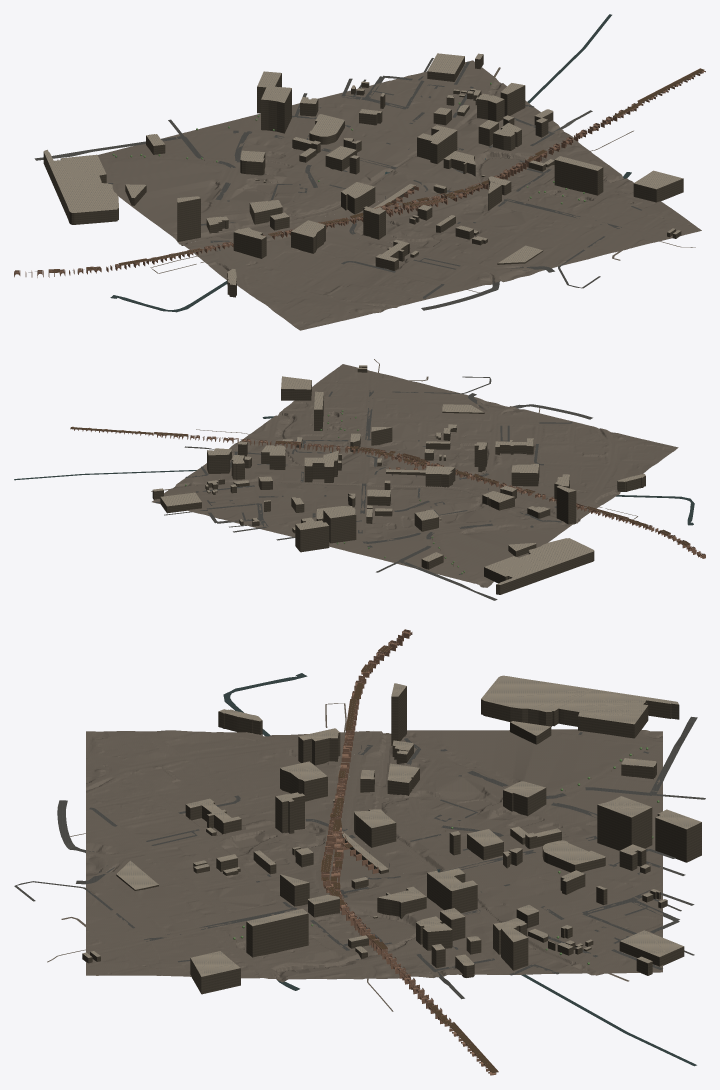
Rendered from sur_a.glb.
3 views of the same model, one above another, from view 1: azimuth 30°, elevation 25°; view 2: azimuth 150°, elevation 25°; view 3: azimuth 270°, elevation 25° (orthographic). The views are drawn at different scales.
Visible parts, largest first — view 1: Terrain_EA_DTM, bldg_27930260, bldg_796971149, bldg_378959095, bldg_990174132, bldg_187832629, bldg_647033648, bldg_431832633, bldg_454279722, bldg_204921679, bldg_114412249, bldg_31182913 (+9 smaller); view 2: Terrain_EA_DTM, bldg_27930260, bldg_378959095, bldg_387033351, bldg_187832629, bldg_647033648, bldg_990174132, bldg_114412249, bldg_431832633, bldg_204921679, bldg_927306138, bldg_204921657 (+4 smaller); view 3: Terrain_EA_DTM, bldg_27930260, bldg_378959095, bldg_796971149, bldg_387033351, bldg_187832629, bldg_990174132, bldg_114412249, bldg_431832633, bldg_31182913, bldg_454279722, bldg_204921679 (+12 smaller).
Part boxes in pixels (left/top/right/bottom): Terrain_EA_DTM: left=97, top=60, right=701, bottom=330; bldg_27930260: left=43, top=149, right=118, bottom=224; bldg_796971149: left=554, top=156, right=603, bottom=195; bldg_378959095: left=261, top=86, right=291, bottom=133; bldg_990174132: left=633, top=170, right=683, bottom=202; bldg_187832629: left=417, top=125, right=457, bottom=163; bldg_647033648: left=177, top=196, right=200, bottom=241; bldg_431832633: left=291, top=220, right=325, bottom=253; bldg_454279722: left=233, top=227, right=266, bottom=258; bldg_204921679: left=341, top=182, right=375, bottom=214; bldg_114412249: left=427, top=53, right=464, bottom=81; bldg_31182913: left=309, top=114, right=344, bottom=144; Terrain_EA_DTM: left=152, top=364, right=678, bottom=587; bldg_27930260: left=484, top=538, right=594, bottom=594; bldg_378959095: left=323, top=506, right=356, bottom=543; bldg_387033351: left=295, top=520, right=329, bottom=552; bldg_187832629: left=304, top=457, right=337, bottom=482; bldg_647033648: left=556, top=485, right=576, bottom=524; bldg_990174132: left=281, top=376, right=311, bottom=400; bldg_114412249: left=160, top=492, right=201, bottom=513; bldg_431832633: left=511, top=463, right=539, bottom=486; bldg_204921679: left=425, top=466, right=455, bottom=487; bldg_927306138: left=207, top=450, right=230, bottom=473; bldg_204921657: left=495, top=438, right=533, bottom=454; Terrain_EA_DTM: left=86, top=729, right=662, bottom=982; bldg_27930260: left=481, top=675, right=679, bottom=738; bldg_378959095: left=597, top=796, right=652, bottom=850; bldg_796971149: left=246, top=908, right=308, bottom=957; bldg_387033351: left=655, top=809, right=701, bottom=862; bldg_187832629: left=427, top=868, right=477, bottom=913; bldg_990174132: left=190, top=951, right=240, bottom=994; bldg_114412249: left=619, top=930, right=684, bottom=966; bldg_431832633: left=280, top=761, right=327, bottom=801; bldg_31182913: left=542, top=840, right=605, bottom=872; bldg_454279722: left=298, top=728, right=340, bottom=765; bldg_204921679: left=354, top=809, right=396, bottom=847.
Bounding box in the file's own units: 1476 × 83.5 × 969.
13 materials, 7 textured.
